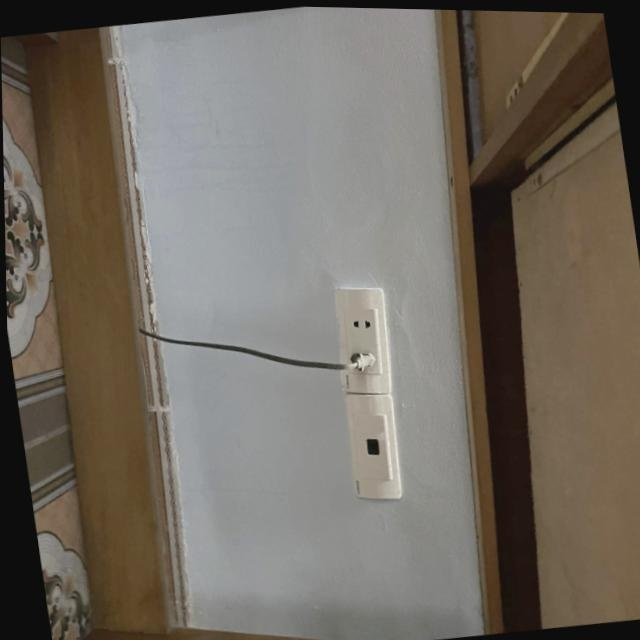outlet: (327, 281, 397, 399), (340, 387, 405, 504)
